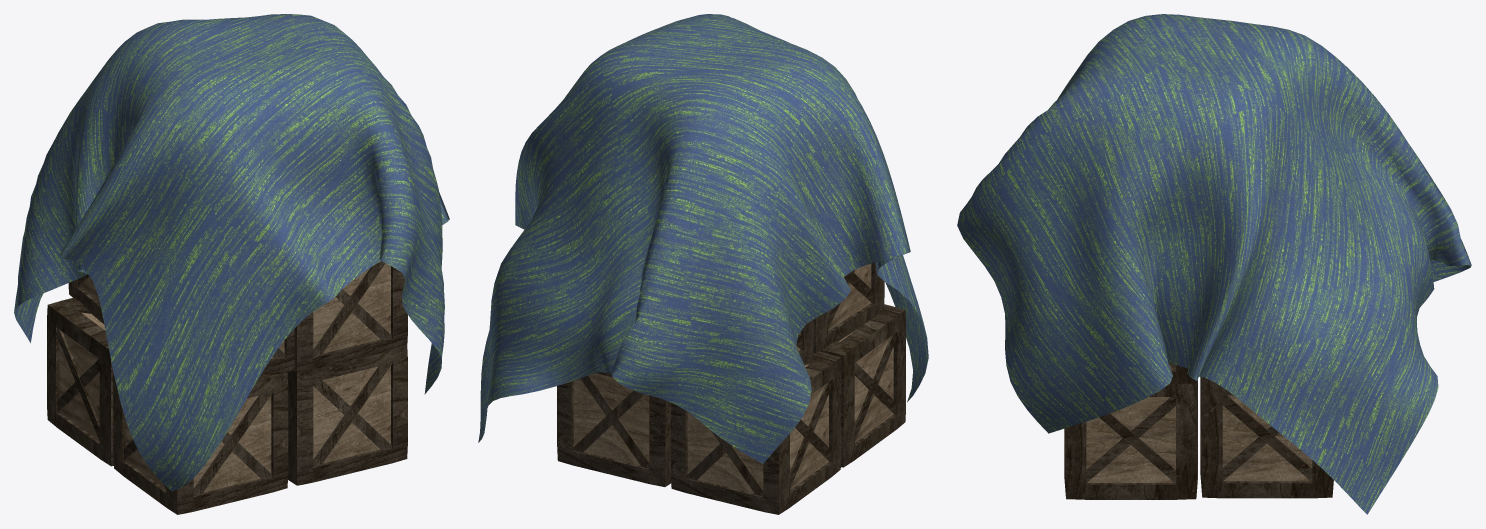
File: Cajas con tela.fbx
3 renders of one model, left to right at view 1: azimuth 30°, elevation 25°; view 2: azimuth 150°, elevation 25°; view 3: azimuth 270°, elevation 25°, orthographic. The views are drawn at different scales.
Visible parts, largest first — view 1: polySurface1298; view 2: polySurface1298; view 3: polySurface1298.
Boxes of the visible parts, x1,y1,x2,y2 form: polySurface1298: (14,14,449,514); polySurface1298: (478,14,928,514); polySurface1298: (957,14,1471,514).
Size of the model in its own units: 142 by 135 by 155.
